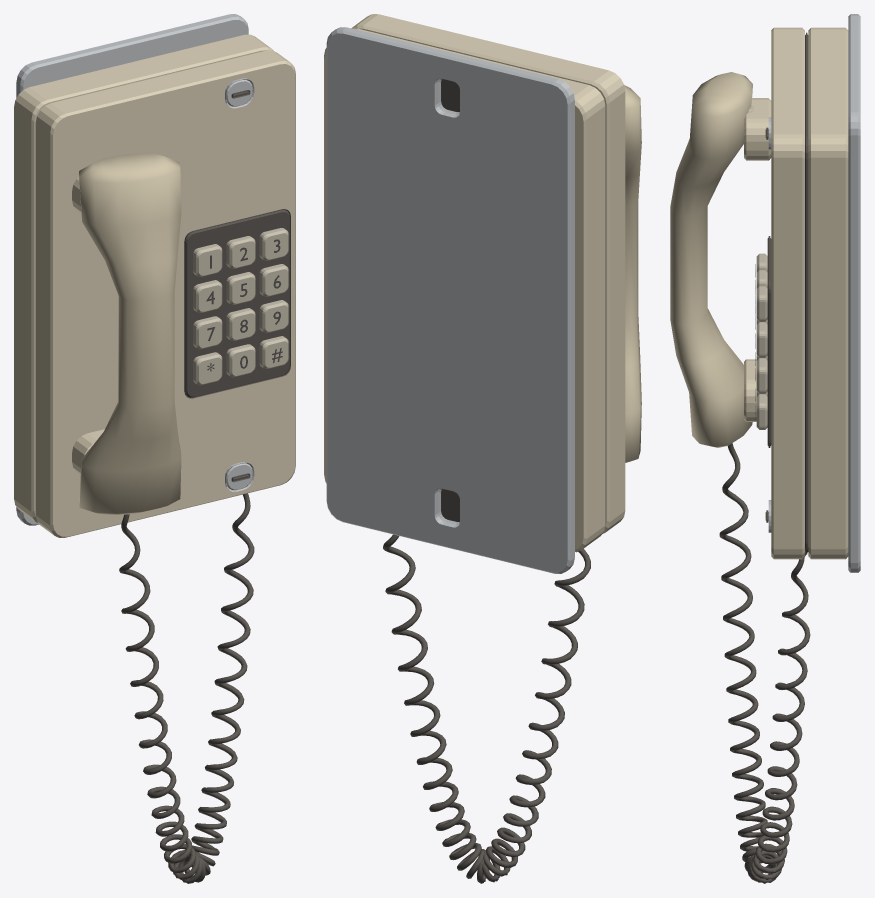
File: wall-courtesy-telephone.glb
3 renders of one model, left to right at view 1: azimuth 30°, elevation 25°; view 2: azimuth 150°, elevation 25°; view 3: azimuth 270°, elevation 25°, orthographic. The views are drawn at different scales.
Visible parts, largest first — view 1: WallTelephone_Housing, WallTelephone_Handset, WallTelephone_Rubber, WallTelephone_Keys, WallTelephone_Hardware, WallTelephone_Legend; view 2: WallTelephone_Hardware, WallTelephone_Housing, WallTelephone_Rubber, WallTelephone_Handset; view 3: WallTelephone_Housing, WallTelephone_Handset, WallTelephone_Rubber, WallTelephone_Hardware, WallTelephone_Keys.
Part boxes in pixels (x1=…): WallTelephone_Housing: x1=14, y1=34, x2=295, y2=537; WallTelephone_Handset: x1=79, y1=153, x2=181, y2=515; WallTelephone_Rubber: x1=119, y1=90, x2=290, y2=883; WallTelephone_Keys: x1=193, y1=228, x2=288, y2=385; WallTelephone_Hardware: x1=16, y1=14, x2=254, y2=525; WallTelephone_Legend: x1=206, y1=239, x2=282, y2=371; WallTelephone_Hardware: x1=326, y1=27, x2=574, y2=573; WallTelephone_Housing: x1=324, y1=14, x2=625, y2=552; WallTelephone_Rubber: x1=383, y1=79, x2=590, y2=883; WallTelephone_Handset: x1=624, y1=85, x2=641, y2=462; WallTelephone_Housing: x1=744, y1=27, x2=848, y2=559; WallTelephone_Handset: x1=670, y1=72, x2=752, y2=447; WallTelephone_Rubber: x1=719, y1=32, x2=810, y2=883; WallTelephone_Hardware: x1=768, y1=14, x2=860, y2=572; WallTelephone_Keys: x1=748, y1=105, x2=767, y2=429.
Size of the model in its own units: 0.57 by 1.8 by 0.3829.
